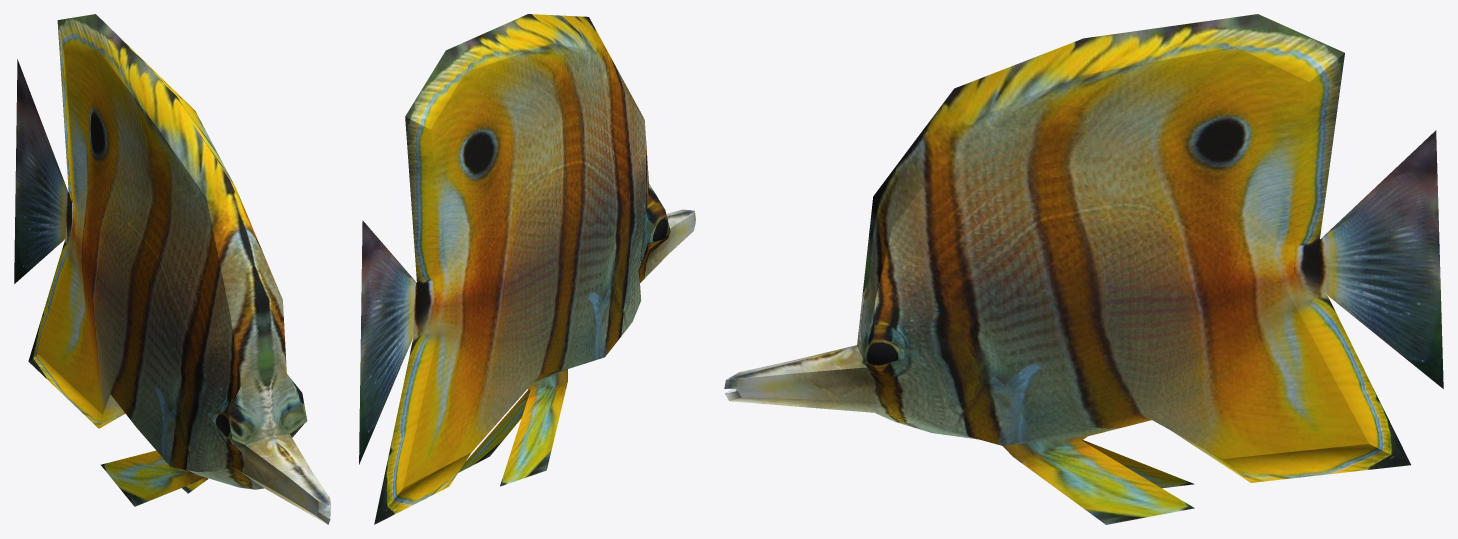
File: yellowcute.fbx
3 renders of one model, left to right at view 1: azimuth 30°, elevation 25°; view 2: azimuth 150°, elevation 25°; view 3: azimuth 270°, elevation 25°, orthographic. The views are drawn at different scales.
Visible parts, largest first — view 1: tropicalFishMaya2008:yellowcutey:polySurface4; view 2: tropicalFishMaya2008:yellowcutey:polySurface4; view 3: tropicalFishMaya2008:yellowcutey:polySurface4.
Part boxes in pixels (x1,y1,x2,y2): tropicalFishMaya2008:yellowcutey:polySurface4: (14,14,330,524); tropicalFishMaya2008:yellowcutey:polySurface4: (359,14,695,524); tropicalFishMaya2008:yellowcutey:polySurface4: (724,14,1443,524).
Bounding box in the file's own units: 3.48 × 19.41 × 25.46.
